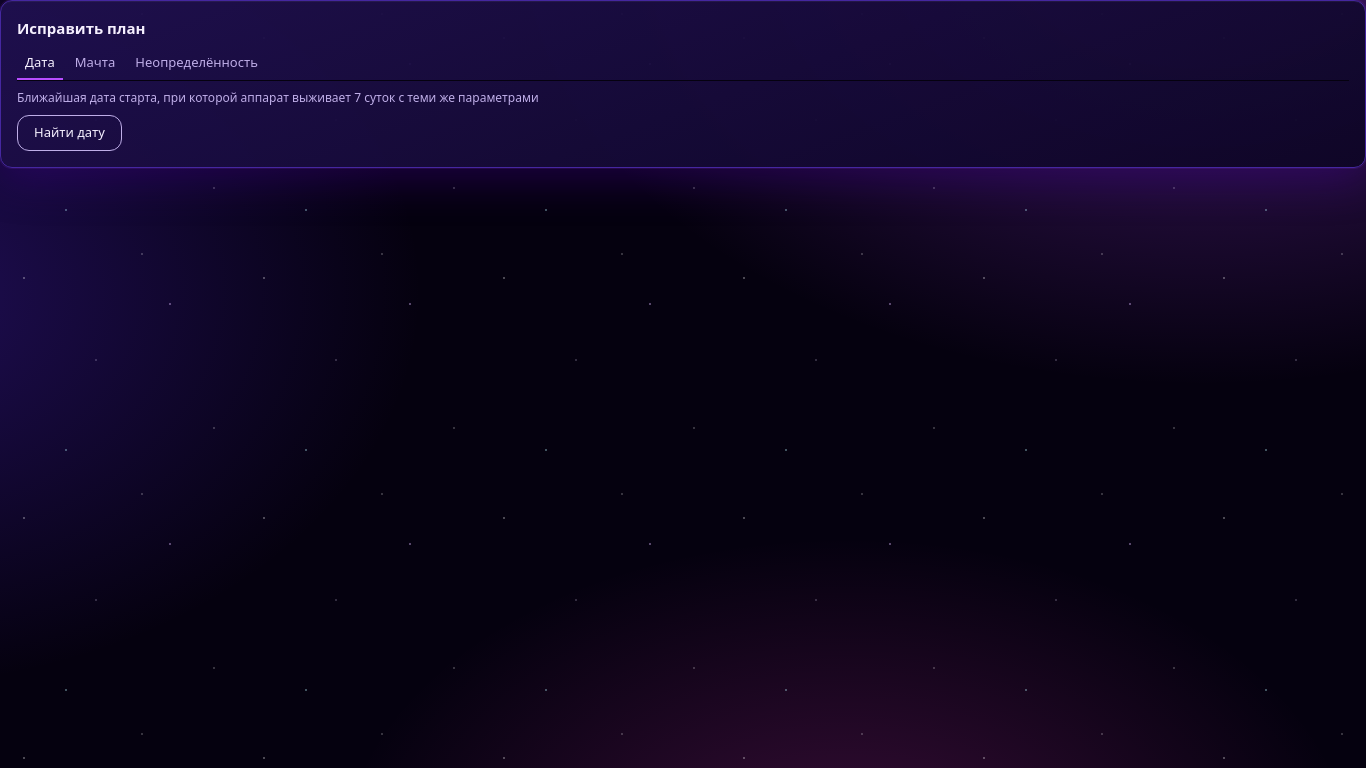
Test: uncertainty tab › reports survivors, failure hours of failed clones and the caveat
Click the tab "Неопределённость". click: (197, 64)
box: [127, 48, 266, 80]
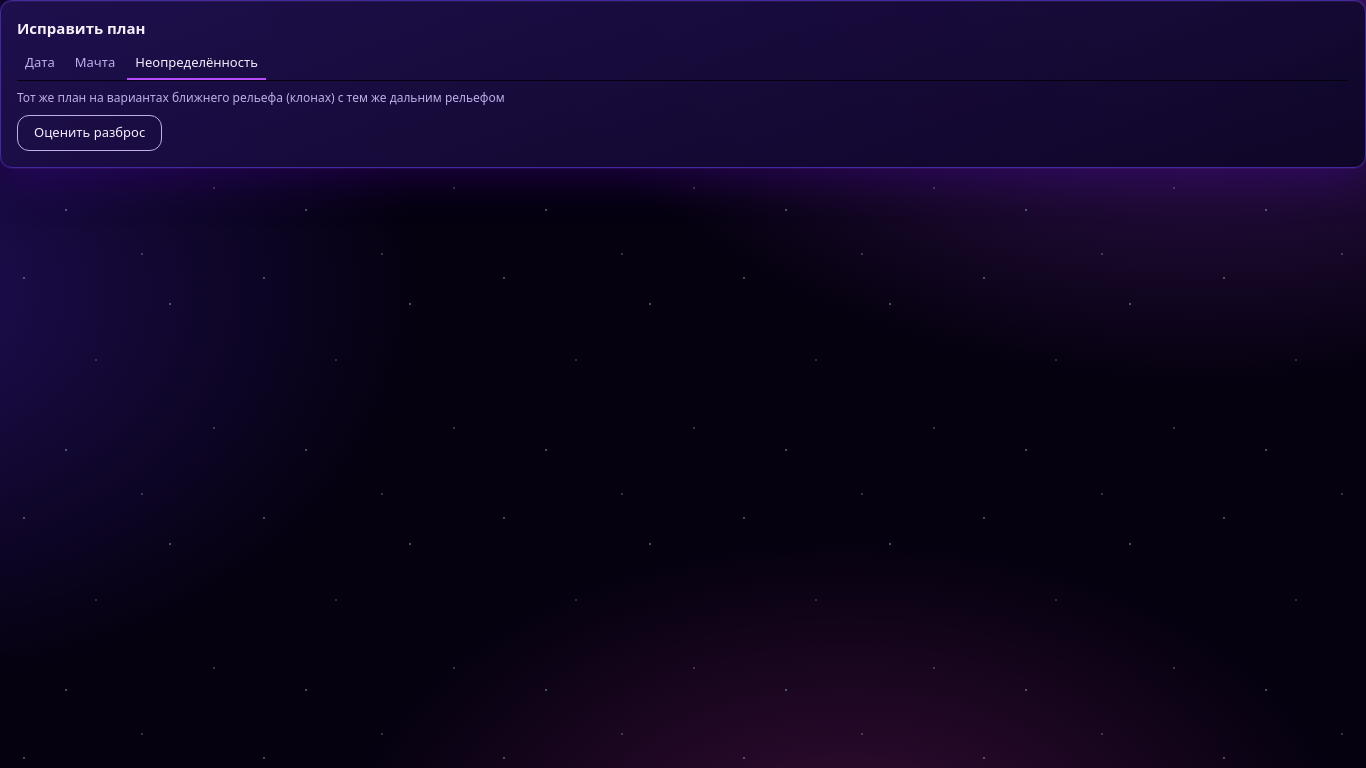
Click the button "Оценить разброс". click: (90, 132)
box: [17, 114, 162, 150]
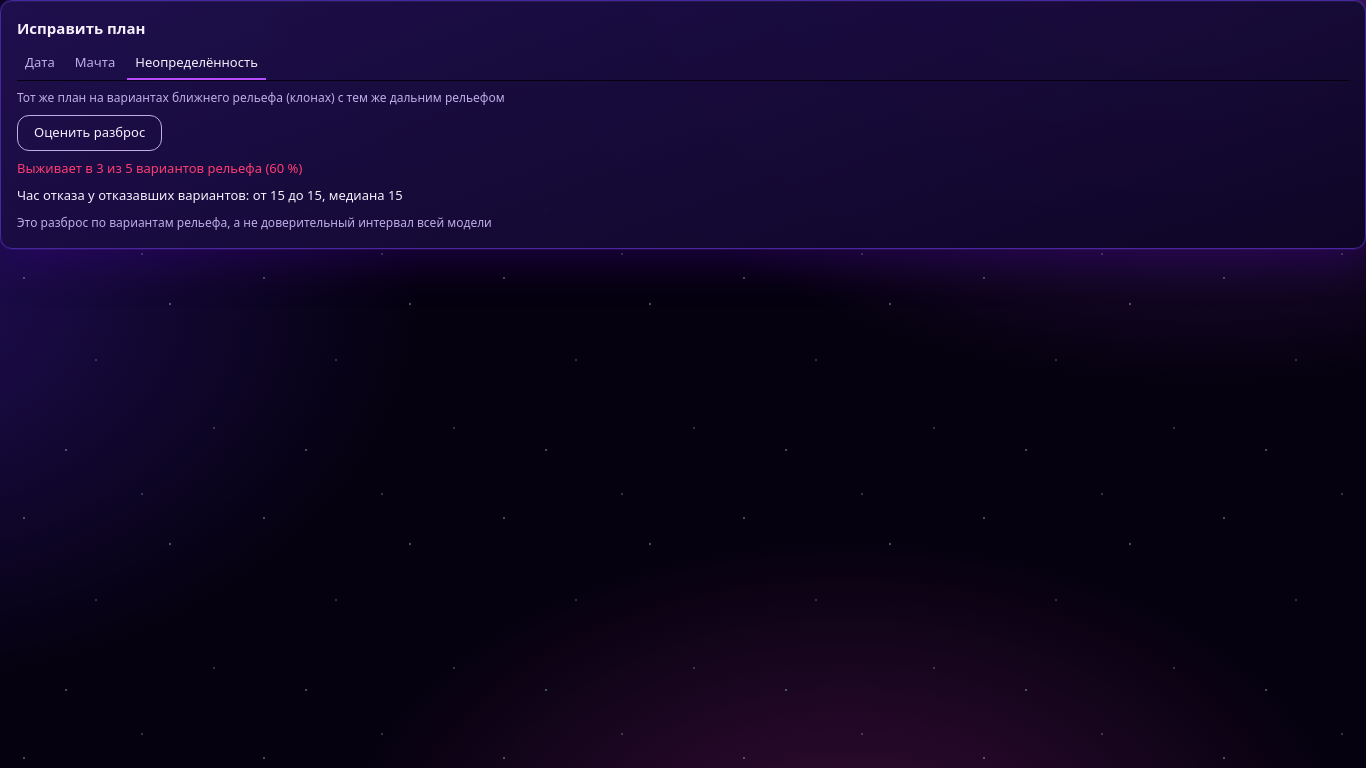
Expected: the text "Час отказа у отказавших вариантов: от 15 до 15, медиана 15" is shown, [17, 186, 403, 204]
Expected: the text "Это разброс по вариантам рельефа, а не доверительный интервал всей модели" is shown, [17, 214, 492, 230]
